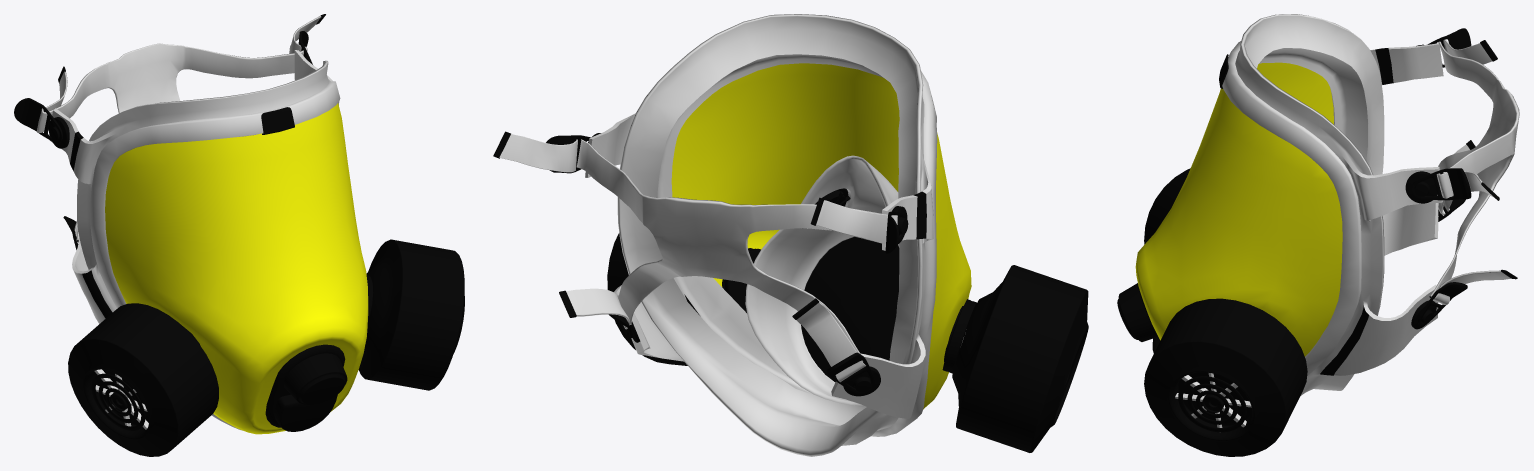
File: SM_Mask_V1.fbx
The picture shows the model from 3 angles, left to right: view 1: azimuth 30°, elevation 25°; view 2: azimuth 150°, elevation 25°; view 3: azimuth 270°, elevation 25°; orthographic projection. The views are drawn at different scales.
Visible parts, largest first — view 1: Mask_V1; view 2: Mask_V1; view 3: Mask_V1.
Boxes of the visible parts, x1,y1,x2,y2 form: Mask_V1: [14, 14, 464, 456]; Mask_V1: [493, 14, 1088, 456]; Mask_V1: [1117, 14, 1519, 456].
Size of the model in its own units: 25.77 by 22.47 by 23.13.
